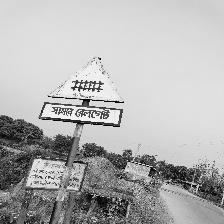Rail-crossing: (40, 57, 125, 127)
